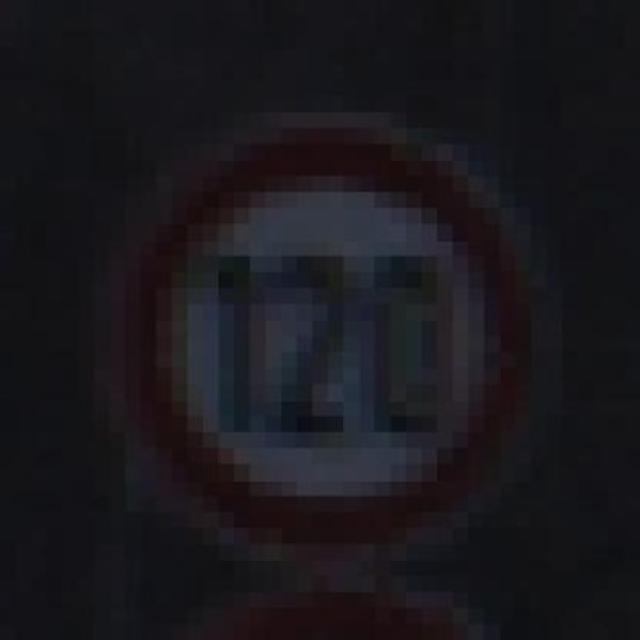forb_speed_over_120: (133, 124, 519, 547)
